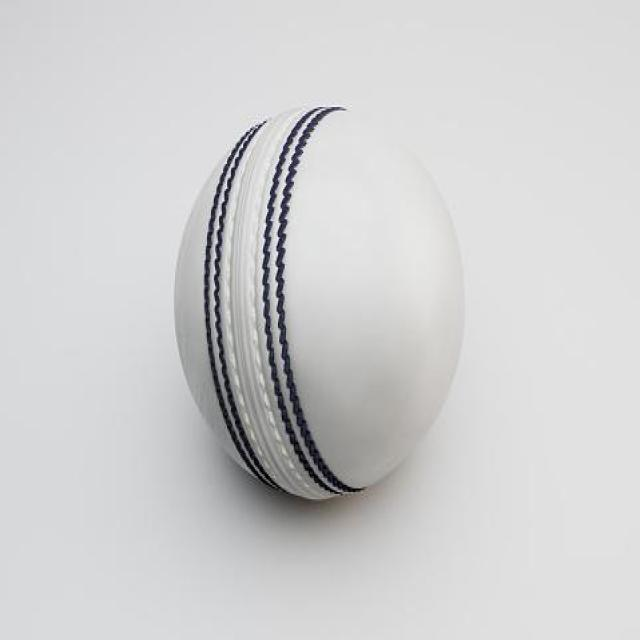ball: (174, 107, 465, 499)
